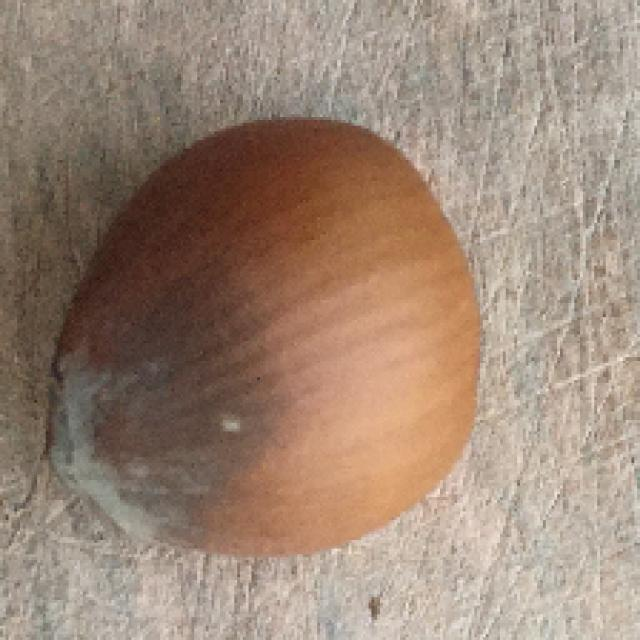damagedHazelnut: (45, 126, 488, 570)
